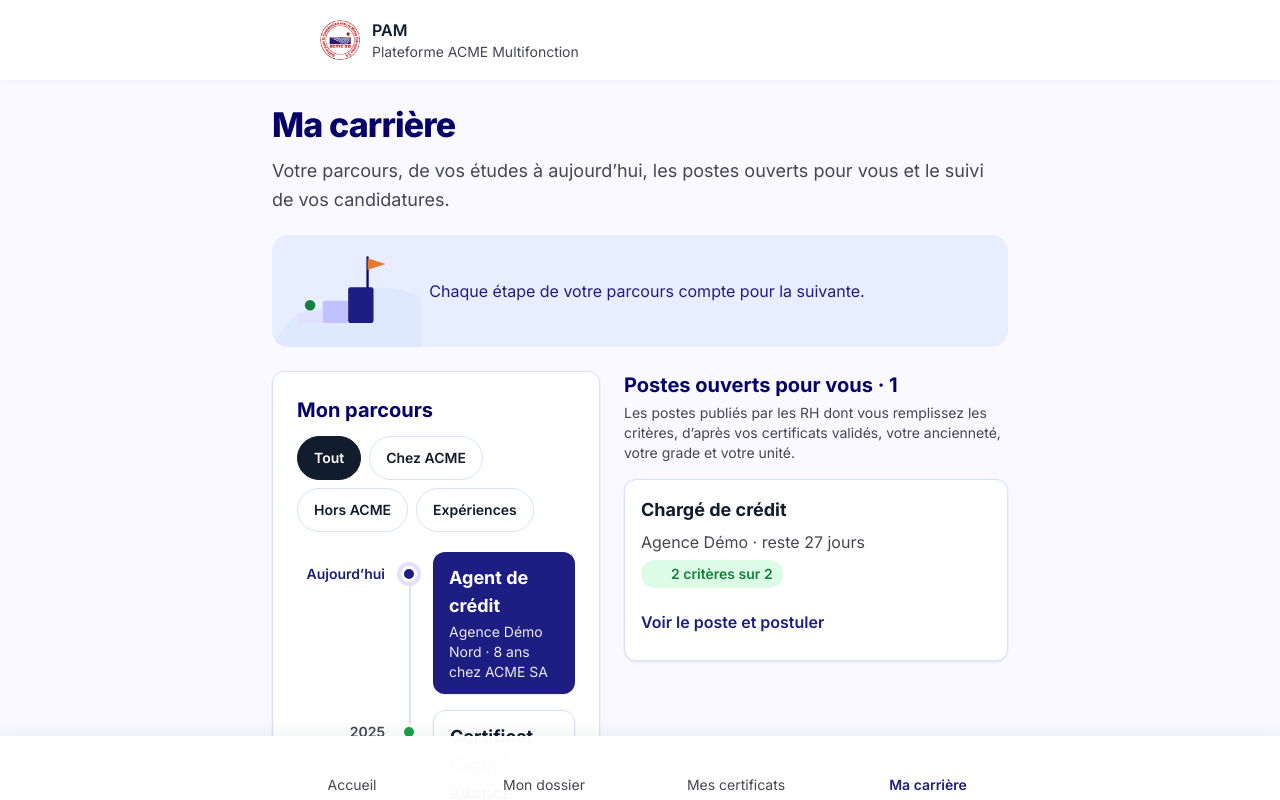
Scenario: US-902 — postuler › postuler avec un message, puis voir l’accusé de réception ; la carte dit « Candidature envoyée »
Click the button "Voir le poste et postuler" at (745, 622), box [641,600,848,644]
(page scrolled)
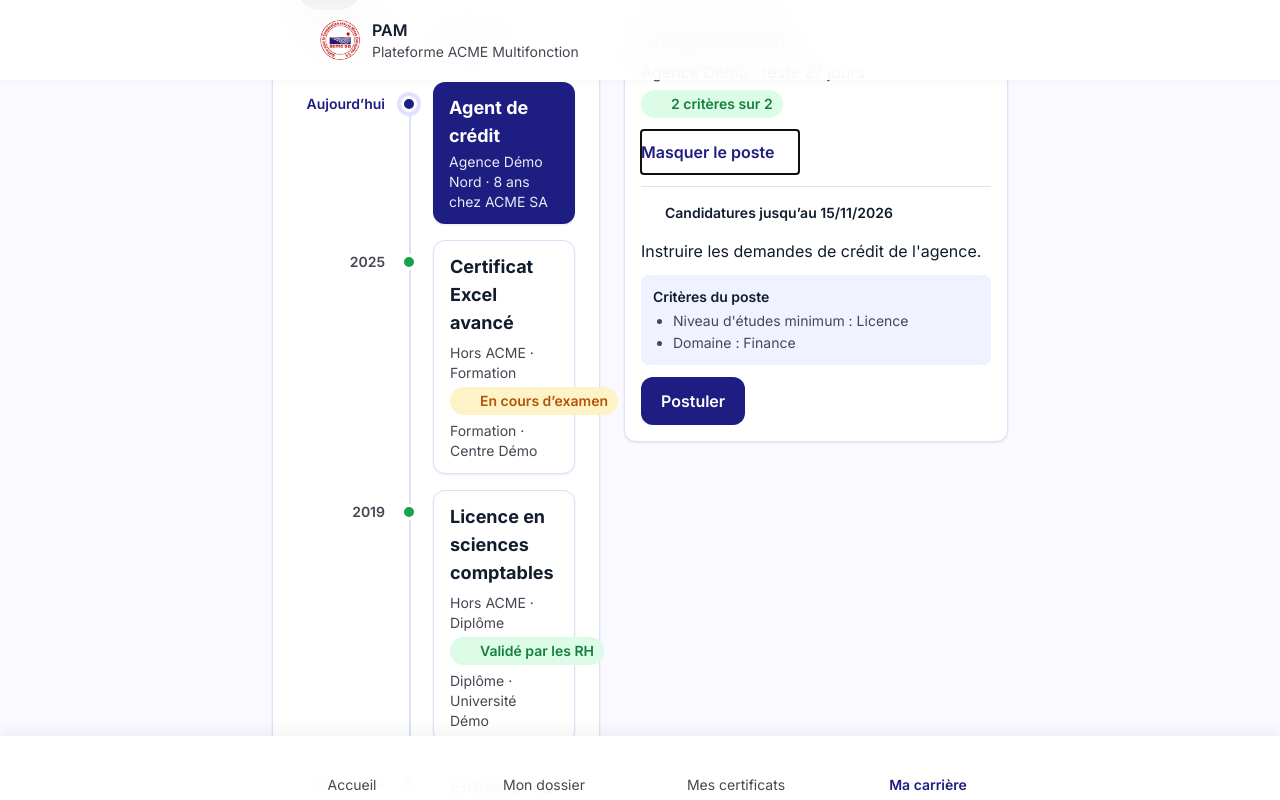
Click the button "Postuler" at (693, 400), box [641,376,745,424]
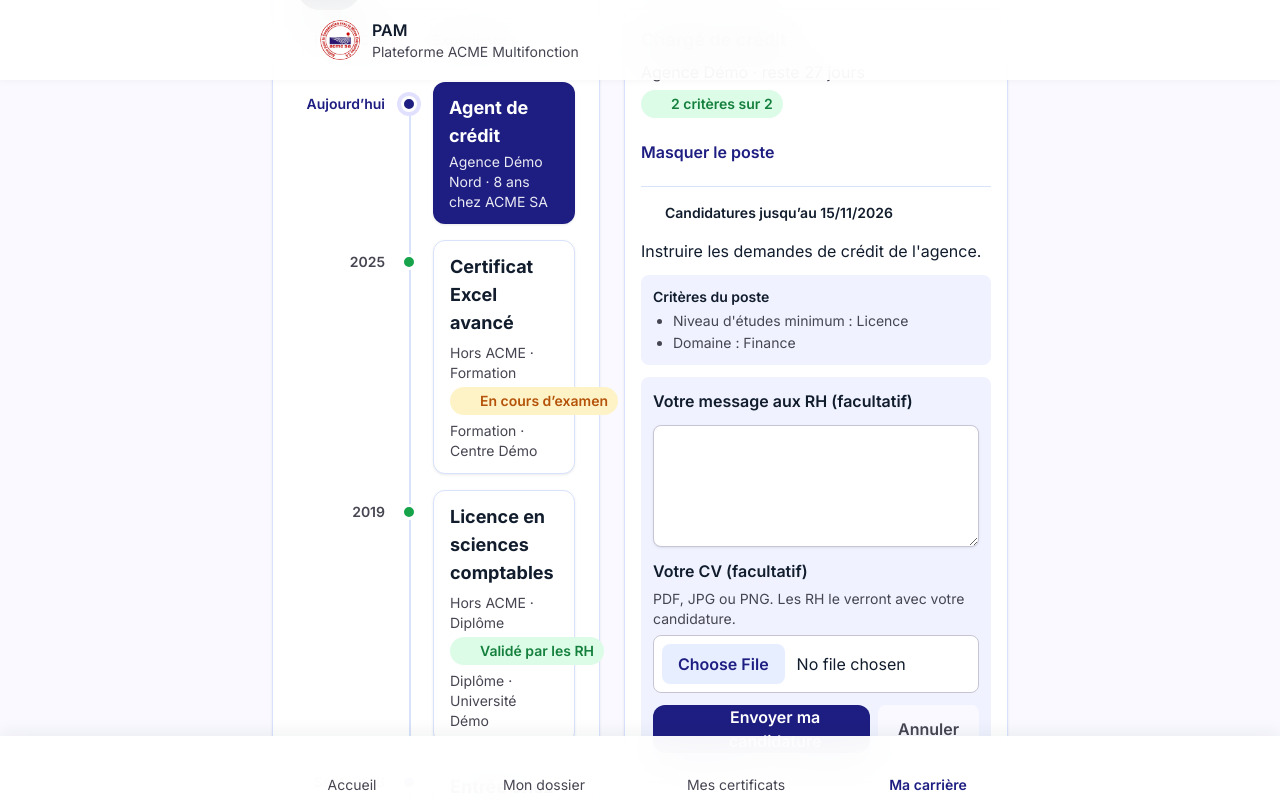
Type "Je connais bien le crédit." into the text box labelled "Votre message aux RH (facultatif)" at (816, 486), box [653,424,979,546]
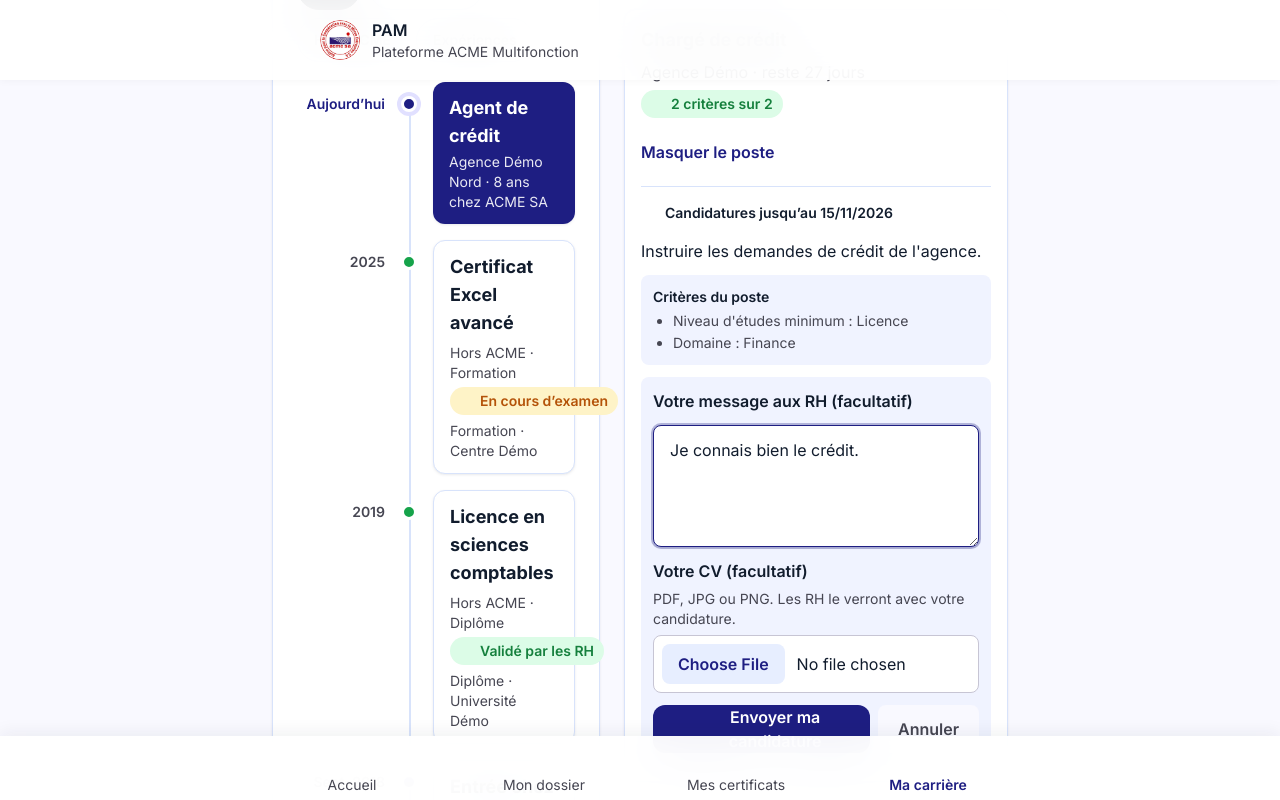
Click the button "Envoyer ma candidature" at (762, 728), box [653,704,870,752]
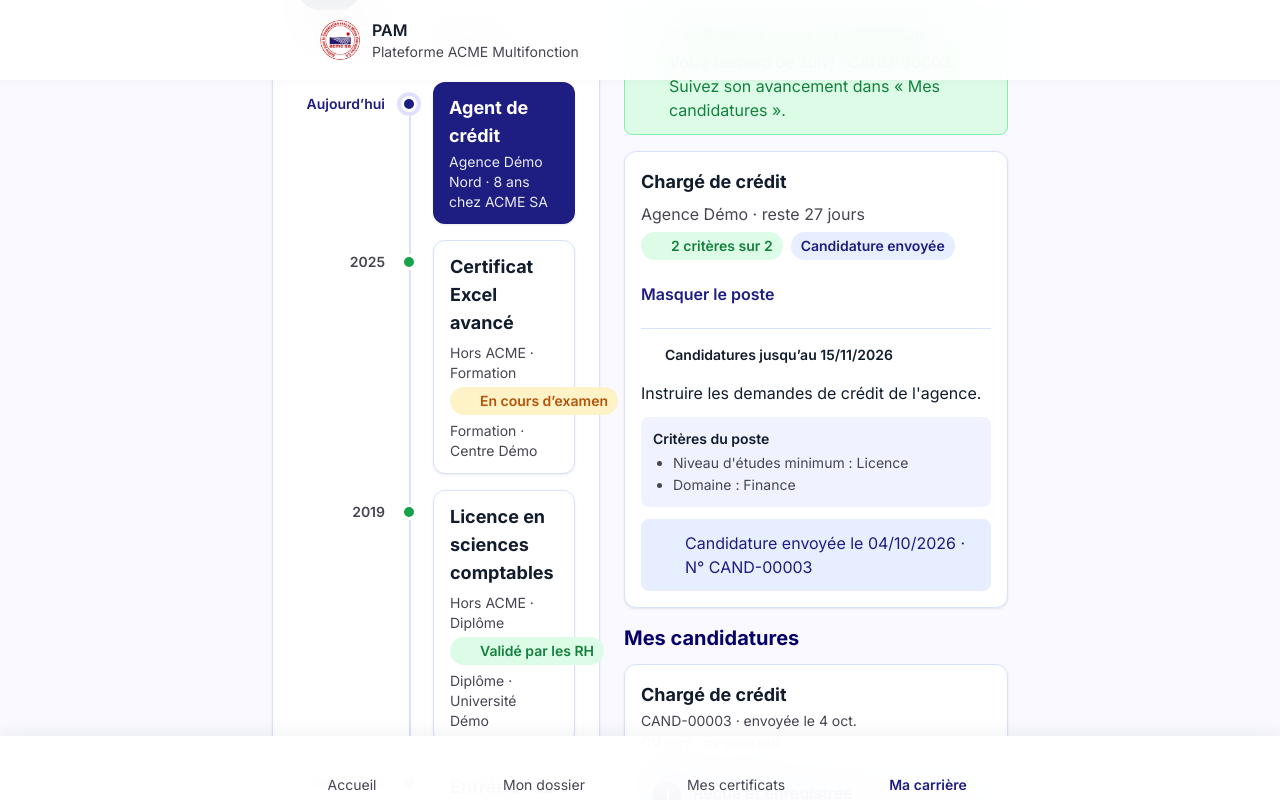
Expected: the button "Postuler" is not shown
Expected: the element "Chargé de crédit" shows "Candidature envoyée", [801,236,945,254]
